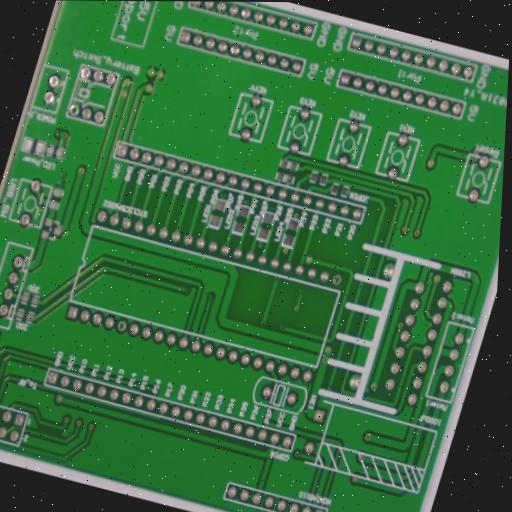missing_hole: (113, 316, 130, 335), (66, 102, 82, 118), (330, 271, 345, 287), (361, 429, 375, 446), (319, 354, 330, 365)
